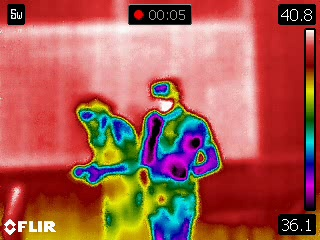human: (124, 68, 225, 240), (69, 92, 157, 240)
